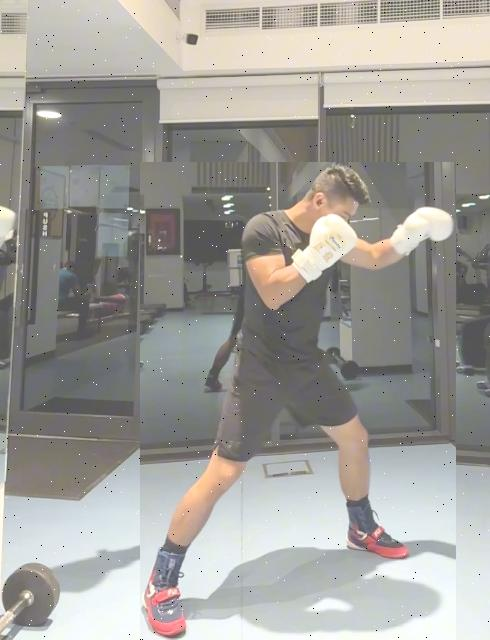punch: (140, 162, 456, 640)
